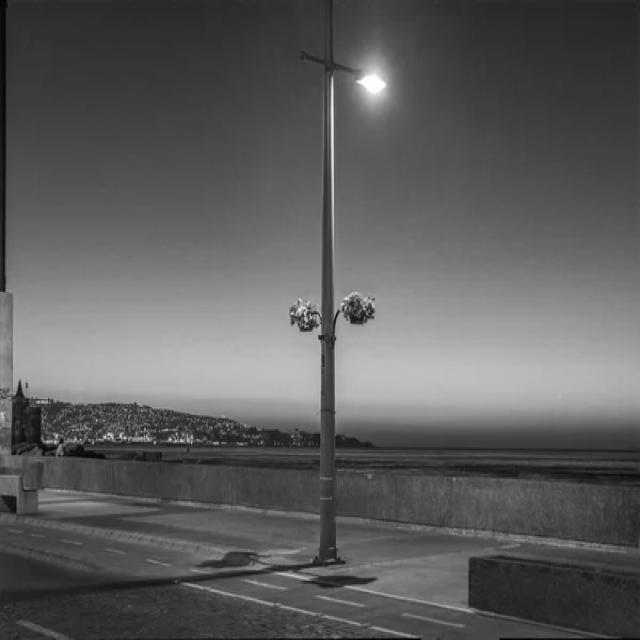Pole: (318, 0, 338, 563)
